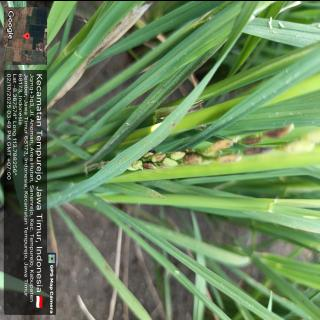Busuk-Bulir: (263, 123, 294, 137), (243, 146, 273, 154), (181, 153, 201, 163), (242, 136, 263, 144), (151, 153, 166, 161), (143, 161, 156, 168)
